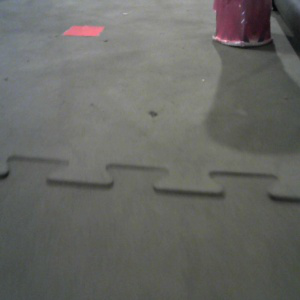Right: (211, 1, 274, 48)
